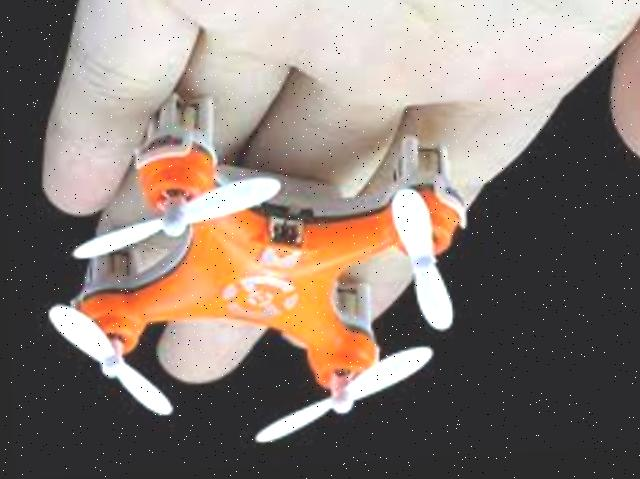drone: (40, 83, 459, 471)
